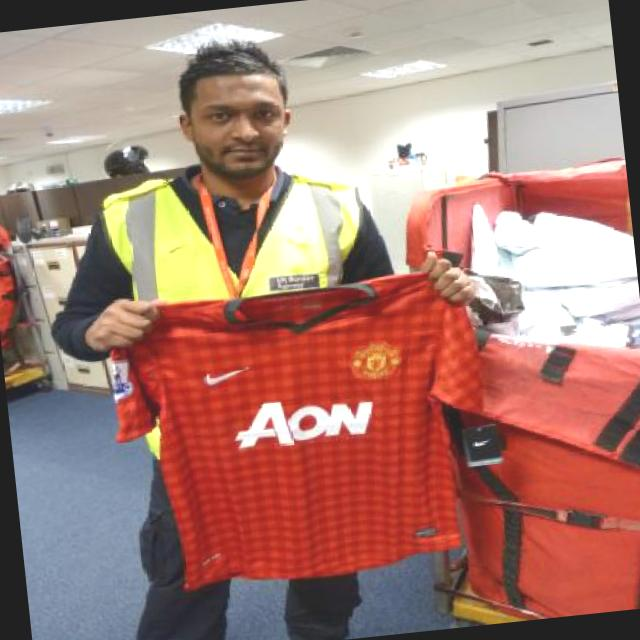Person: (54, 48, 544, 636), (104, 140, 154, 178)
